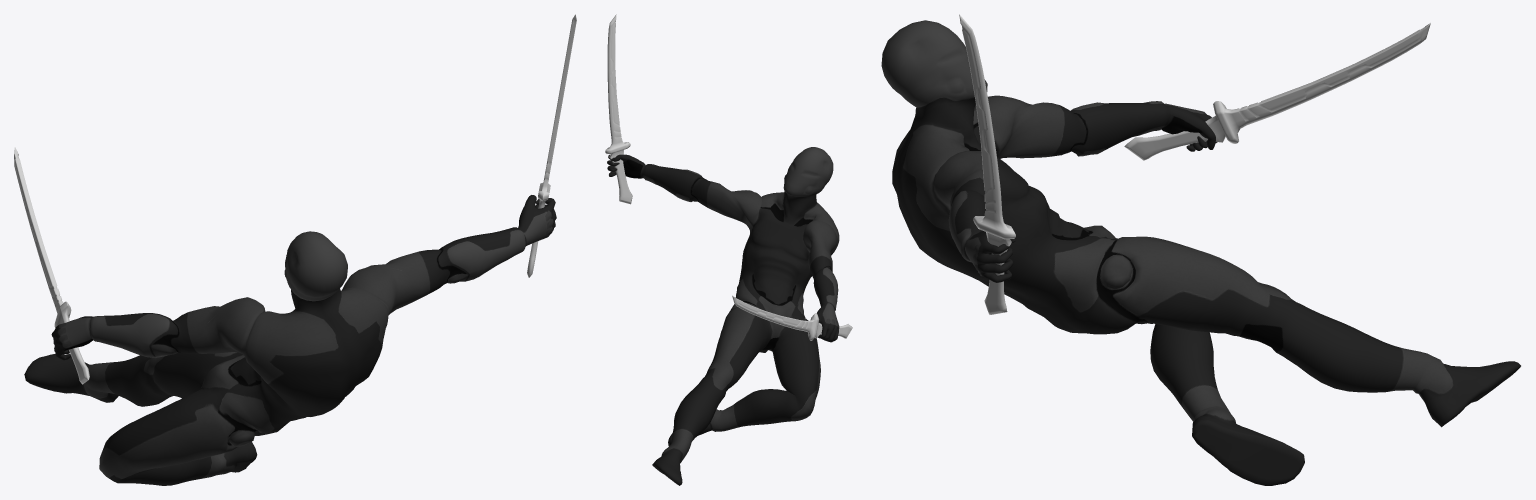
The picture shows the model from 3 angles, left to right: view 1: azimuth 30°, elevation 25°; view 2: azimuth 150°, elevation 25°; view 3: azimuth 270°, elevation 25°; orthographic projection. The views are drawn at different scales.
Parts seen in each view (by area): view 1: Cyborg_Ninja_Killer, Sword_l, Sword_l001; view 2: Cyborg_Ninja_Killer, Sword_l001, Sword_l; view 3: Cyborg_Ninja_Killer, Sword_l, Sword_l001.
Part boxes in pixels (<box>): Cyborg_Ninja_Killer: <box>24,195,556,485</box>; Sword_l: <box>14,147,89,384</box>; Sword_l001: <box>527,14,576,277</box>; Cyborg_Ninja_Killer: <box>607,147,839,485</box>; Sword_l001: <box>605,14,632,204</box>; Sword_l: <box>732,295,852,340</box>; Cyborg_Ninja_Killer: <box>881,20,1520,485</box>; Sword_l: <box>1124,23,1430,160</box>; Sword_l001: <box>959,14,1015,314</box>.
Bounding box in the file's own units: 149 × 165 × 159.
